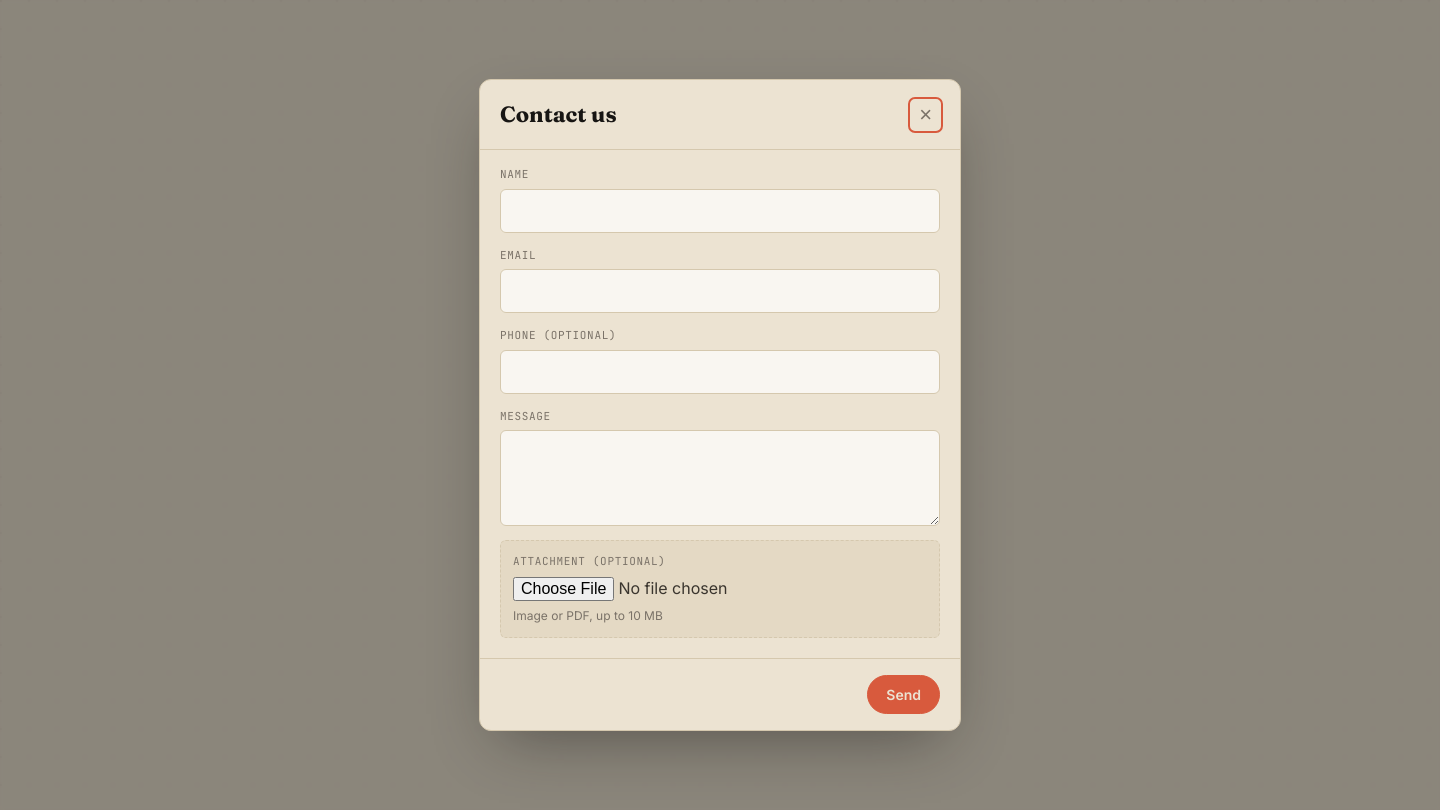
Test: ContactDialog (authenticated) › rejects an attachment larger than 10 MB before uploading
In the field labelled "Name": (720, 211) top-left (500, 189), bottom-right (940, 233), type "Ada"
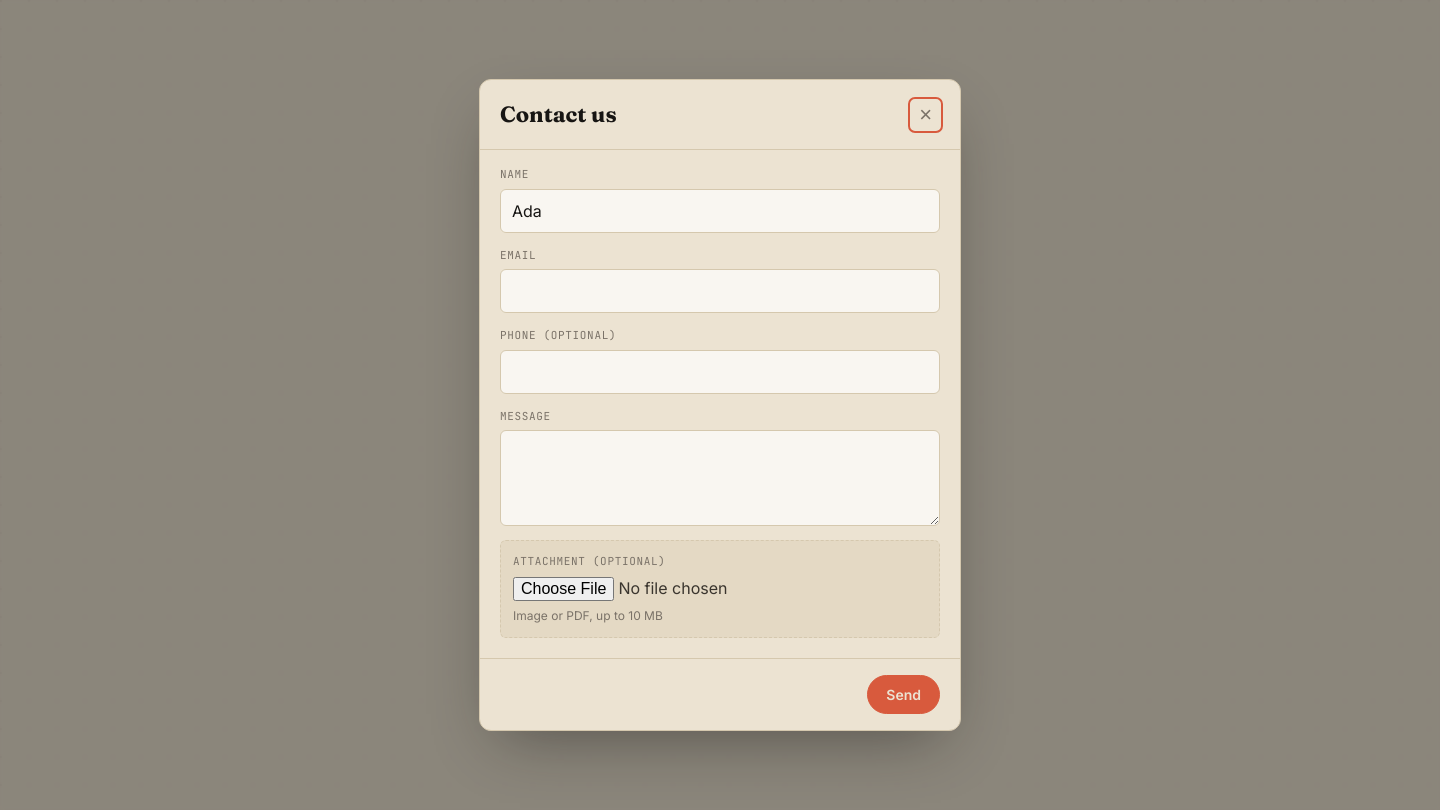
In the field labelled "Email": (720, 291) top-left (500, 269), bottom-right (940, 313), type "ada@example.com"
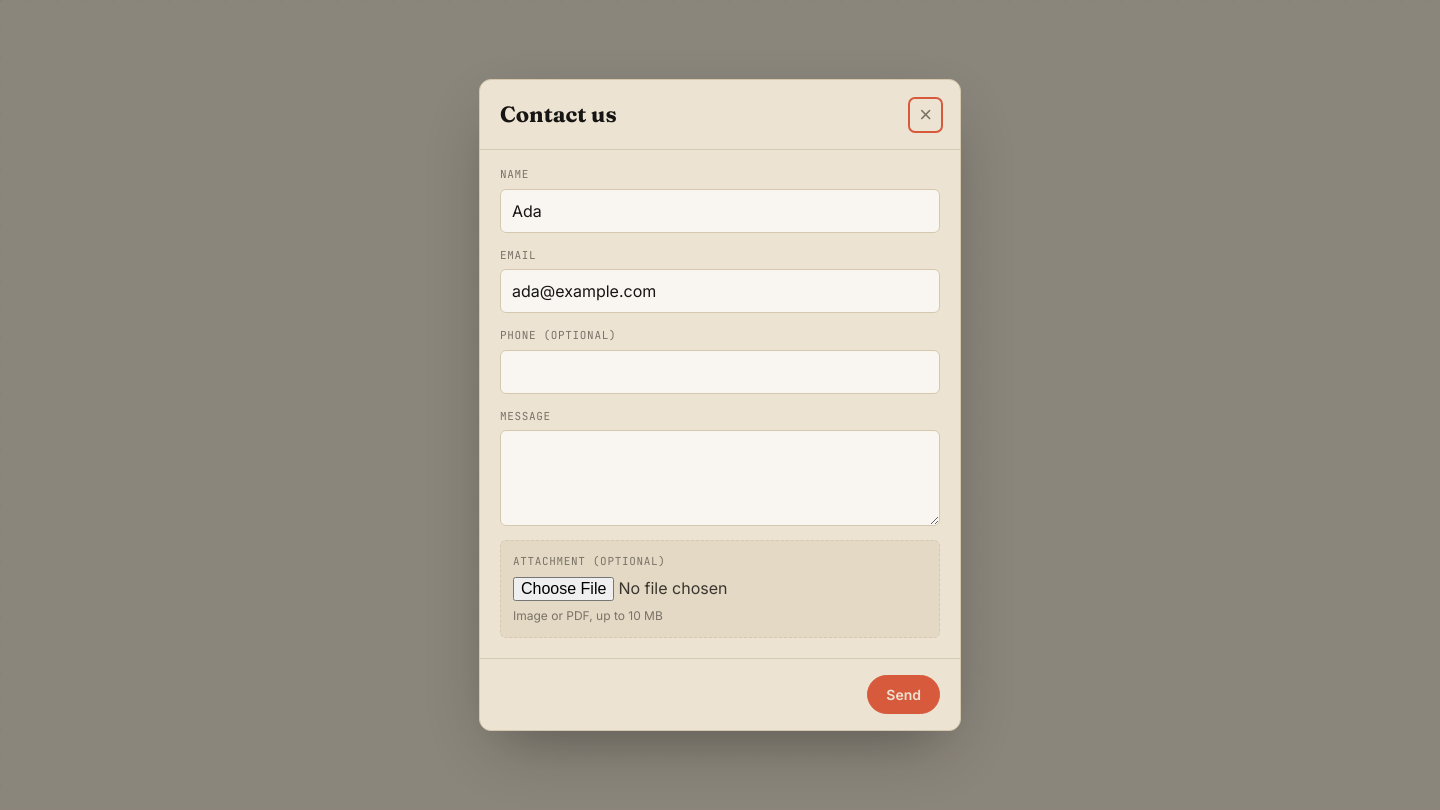
In the text box labelled "Message": (720, 478) top-left (500, 430), bottom-right (940, 526), type "hello"
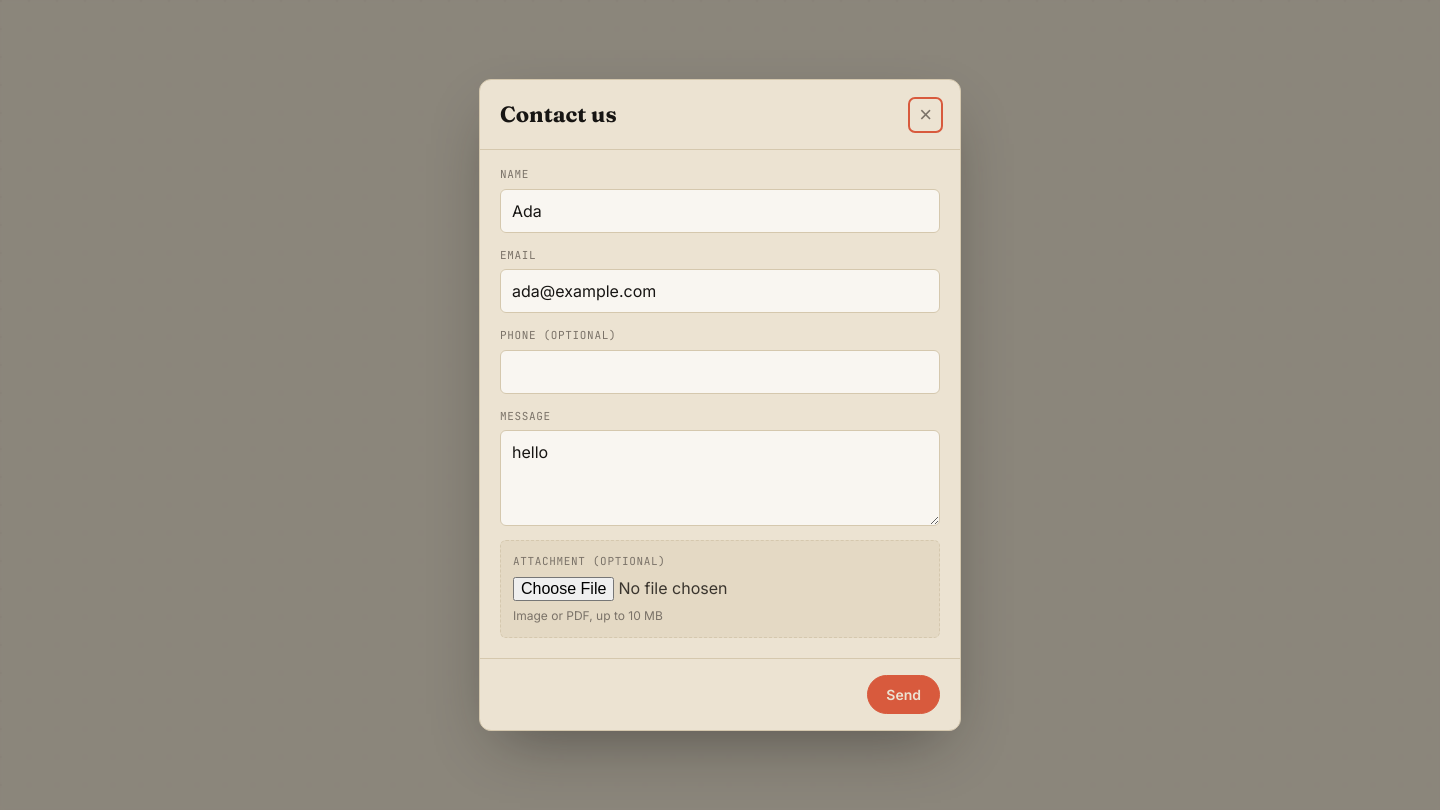
Click the button "Send": click(904, 694) top-left (867, 675), bottom-right (940, 714)
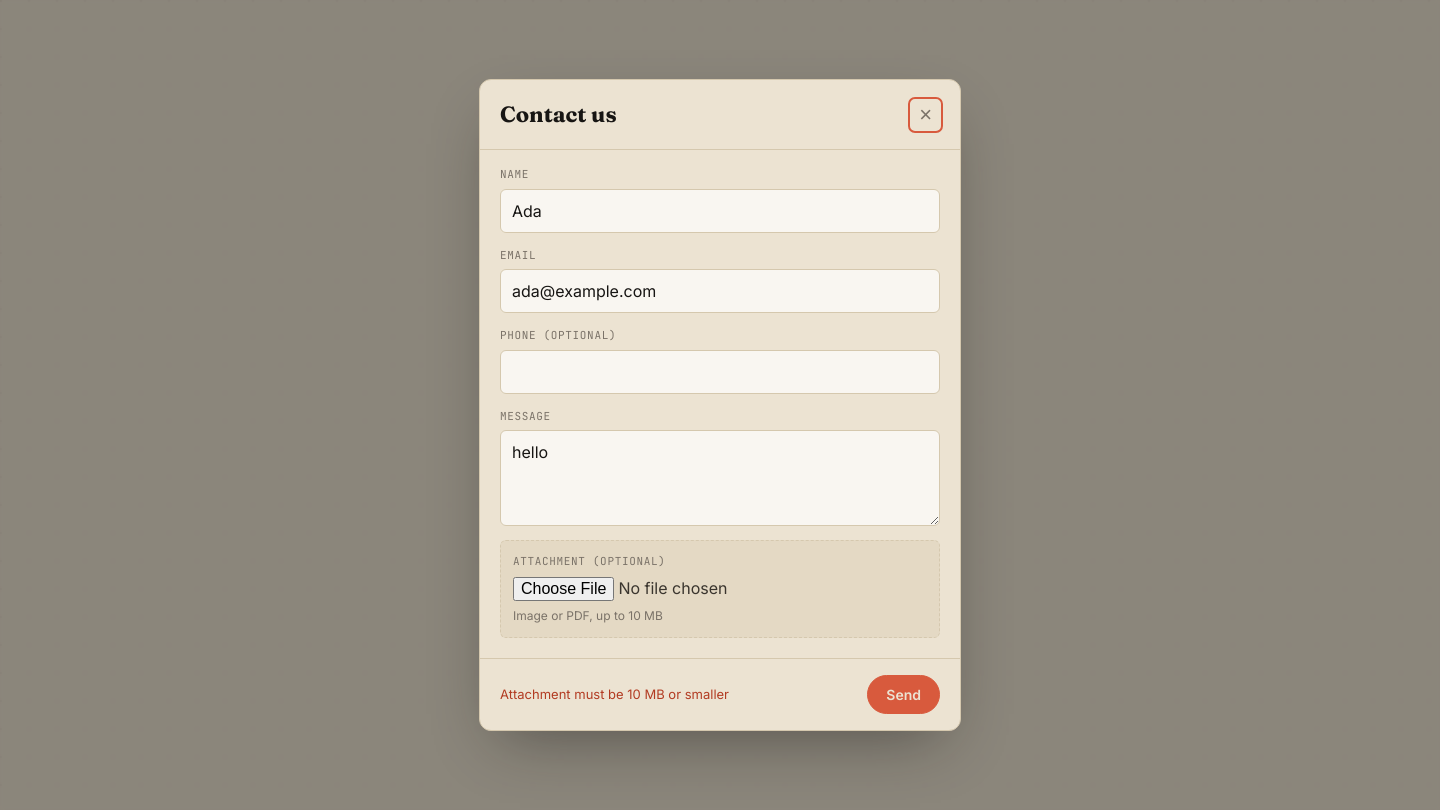
Result: the message reads "Attachment must be 10 MB or smaller" at top-left (500, 686), bottom-right (729, 702)
